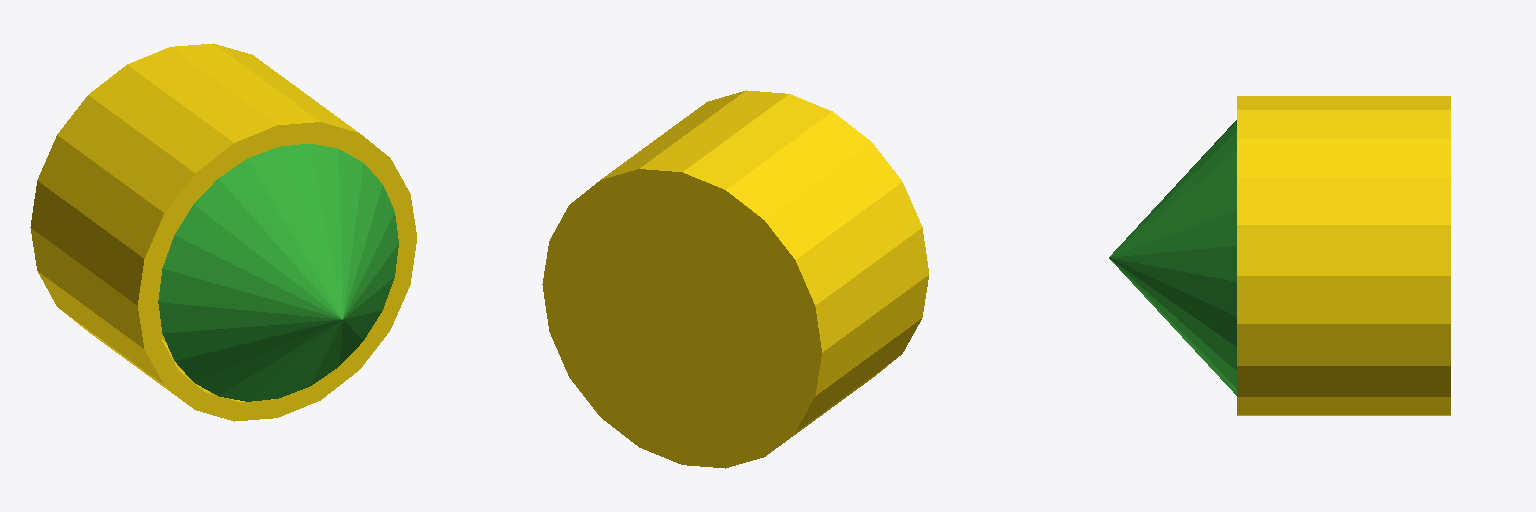
Rendered from tinker.obj.
3 views of the same model, side by side, from view 1: azimuth 30°, elevation 25°; view 2: azimuth 150°, elevation 25°; view 3: azimuth 270°, elevation 25° (orthographic).
Parts seen in each view (by area): view 1: obj_0; view 2: obj_0; view 3: obj_0.
Part boxes in pixels (bbox=[...]): obj_0: bbox=[30, 43, 416, 421]; obj_0: bbox=[542, 90, 928, 468]; obj_0: bbox=[1109, 96, 1450, 415].
Bounding box in the file's own units: 122 × 122 × 129.